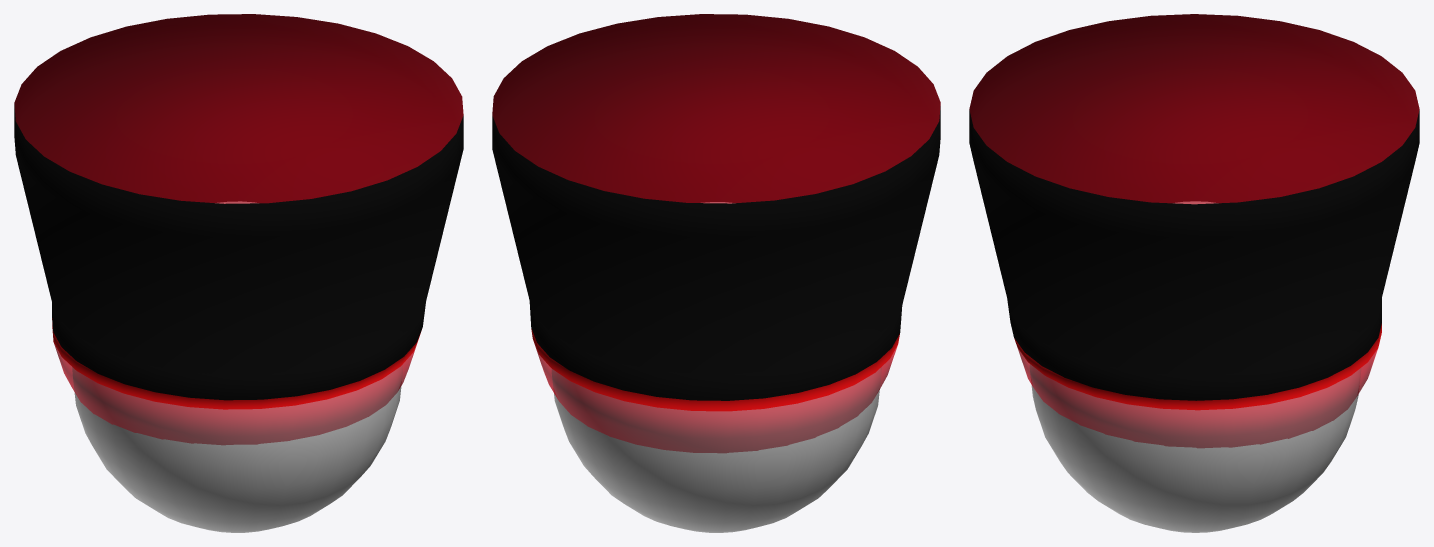
File: topEmergancyLight.fbx
The picture shows the model from 3 angles, left to right: view 1: azimuth 30°, elevation 25°; view 2: azimuth 150°, elevation 25°; view 3: azimuth 270°, elevation 25°; orthographic projection.
Parts seen in each view (by area): view 1: Sphere; view 2: Sphere; view 3: Sphere.
Boxes of the visible parts, box(x1,y1,x2,y2) form: Sphere: box(14, 14, 463, 532); Sphere: box(492, 14, 940, 532); Sphere: box(969, 14, 1419, 532).
Size of the model in its own units: 101 by 101 by 101.
